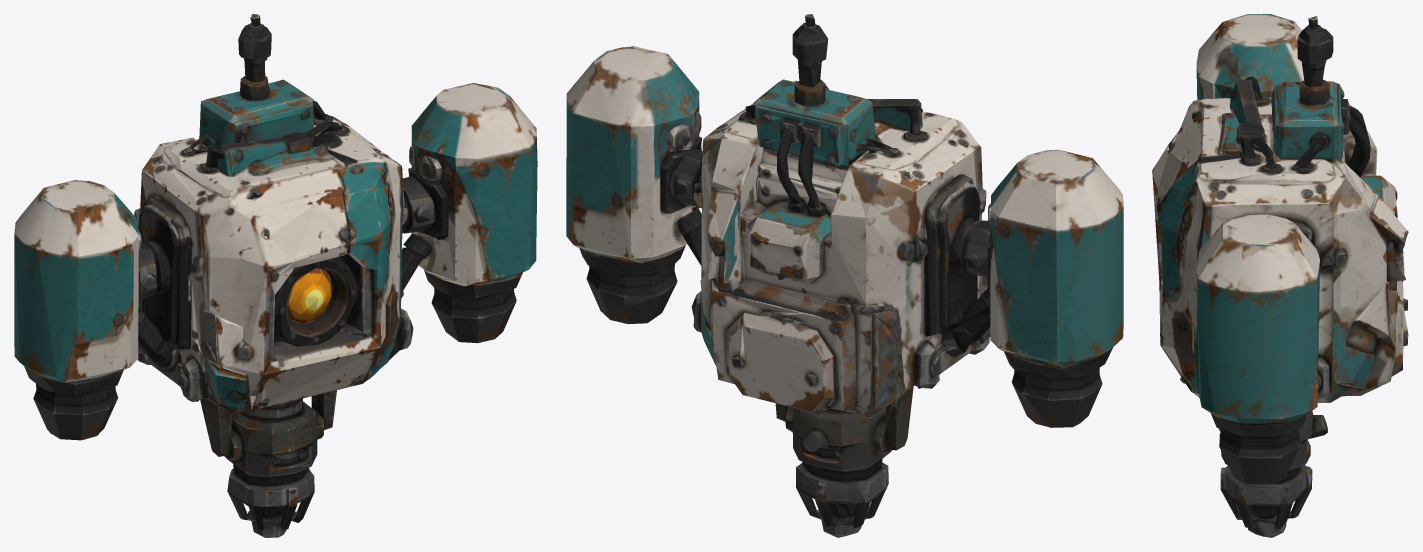
Rendered from Meshy_AI_Rusty_Satellite_Drone_1020195641_texture.fbx.
3 renders of one model, left to right at view 1: azimuth 30°, elevation 25°; view 2: azimuth 150°, elevation 25°; view 3: azimuth 270°, elevation 25°, orthographic. The views are drawn at different scales.
Parts seen in each view (by area): view 1: output_unwrapped; view 2: output_unwrapped; view 3: output_unwrapped.
Part boxes in pixels (left/top/right/bottom): output_unwrapped: left=14, top=14, right=537, bottom=537; output_unwrapped: left=566, top=14, right=1123, bottom=537; output_unwrapped: left=1152, top=14, right=1408, bottom=537.
Size of the model in its own units: 190 by 180 by 80.37.
1 material, 1 textured.
